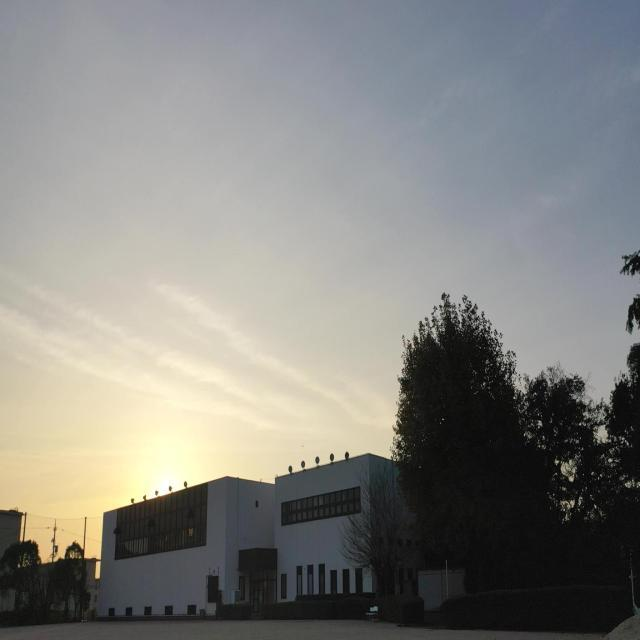Birds: (300, 442, 307, 450)
